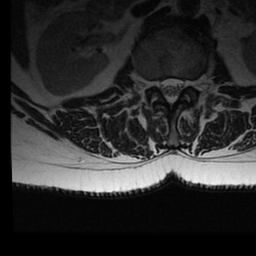CCS_normal: (166, 69, 174, 114)
LFS_stenosis: (185, 72, 193, 92)
LLS_normal: (175, 71, 184, 102)
RFS_stenosis: (150, 74, 158, 97)
RLS_normal: (159, 73, 167, 100)
